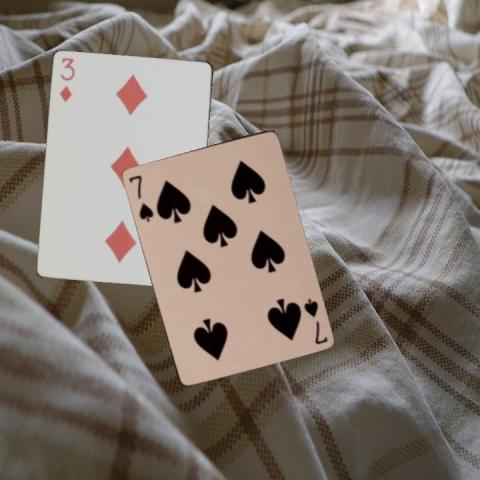3d: (57, 55, 76, 104)
7s: (125, 172, 155, 223), (300, 295, 329, 346)
